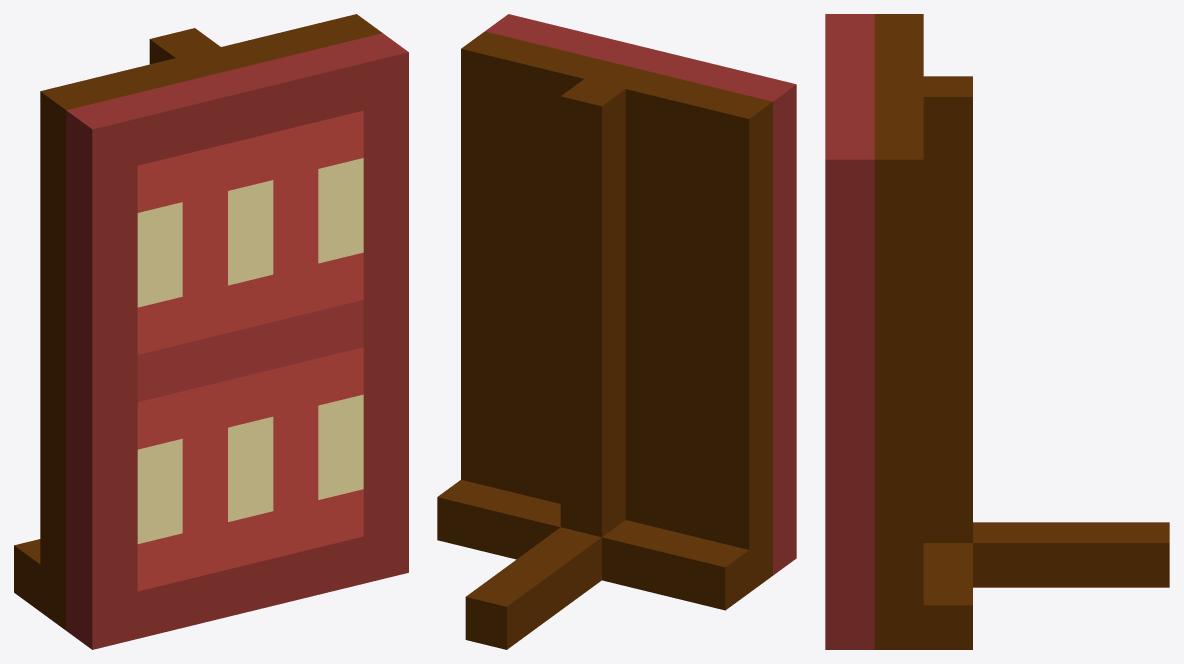
The model's file is Building2-3.obj.
The picture shows the model from 3 angles, left to right: view 1: azimuth 30°, elevation 25°; view 2: azimuth 150°, elevation 25°; view 3: azimuth 270°, elevation 25°; orthographic projection. The views are drawn at different scales.
Bounding box in the file's own units: 0.7 × 1.1 × 0.7.
1 material, 1 textured.
